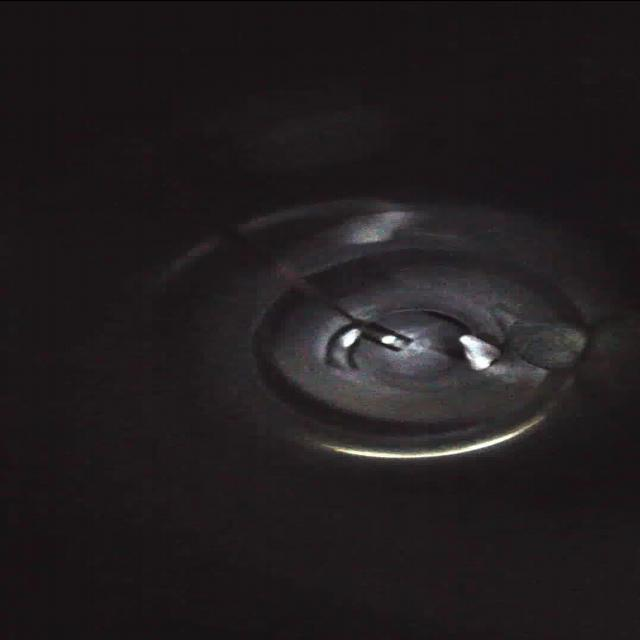impurity: (508, 315, 592, 369), (458, 332, 502, 369)
